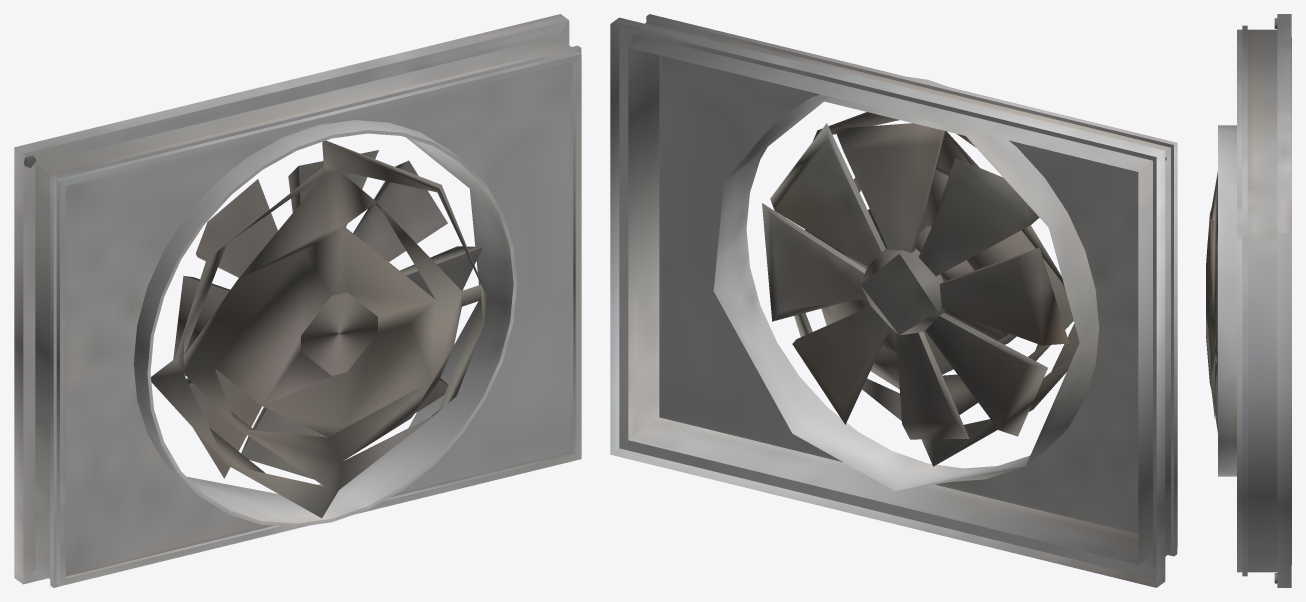
Rendered from vent_fan.glb.
3 renders of one model, left to right at view 1: azimuth 30°, elevation 25°; view 2: azimuth 150°, elevation 25°; view 3: azimuth 270°, elevation 25°, orthographic. The views are drawn at different scales.
Visible parts, largest first — view 1: vent_fan; view 2: vent_fan; view 3: vent_fan.
Boxes of the visible parts, x1,y1,x2,y2 form: vent_fan: (14,14,581,587); vent_fan: (610,14,1177,587); vent_fan: (1206,14,1291,587).
Bounding box in the file's own units: 0.5358 × 0.4036 × 0.0886.
1 material, 1 textured.
